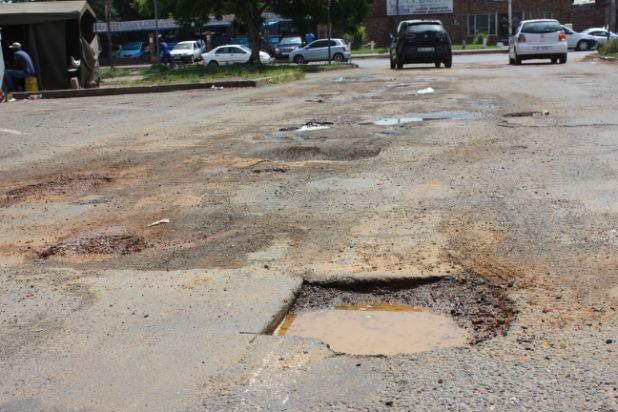pothole: (258, 268, 520, 363)
